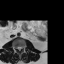CCS_normal: (19, 45, 20, 52)
LFS_stenosis: (22, 46, 23, 49)
LLS_normal: (20, 45, 22, 50)
RFS_stenosis: (15, 45, 17, 50)
RLS_normal: (17, 46, 19, 50)
